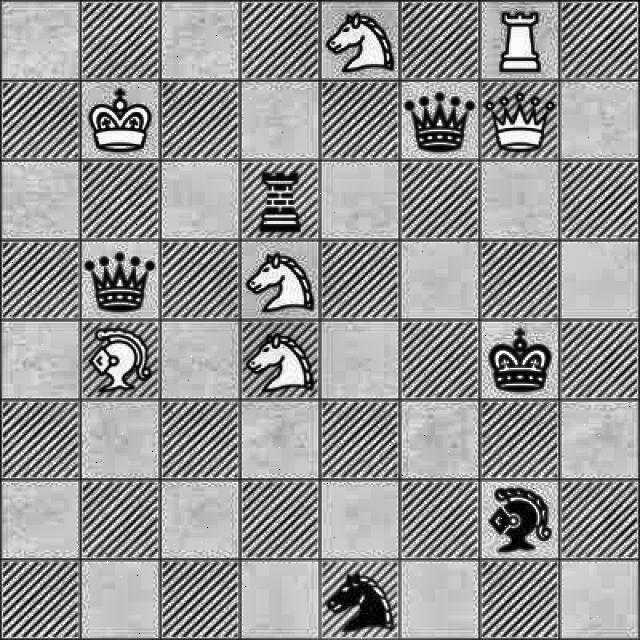Black Knight: (324, 563, 398, 640)
black bishop: (484, 479, 562, 559)
black king: (484, 324, 555, 396)
black queen: (80, 237, 161, 321), (400, 80, 478, 162)
black rook: (248, 164, 316, 238)
white bishop: (81, 322, 164, 396)
white king: (90, 85, 154, 153)
white queen: (486, 77, 554, 161)
white rook: (484, 2, 554, 76)
whiteknight: (244, 244, 316, 318), (245, 324, 318, 396), (328, 9, 398, 80)
